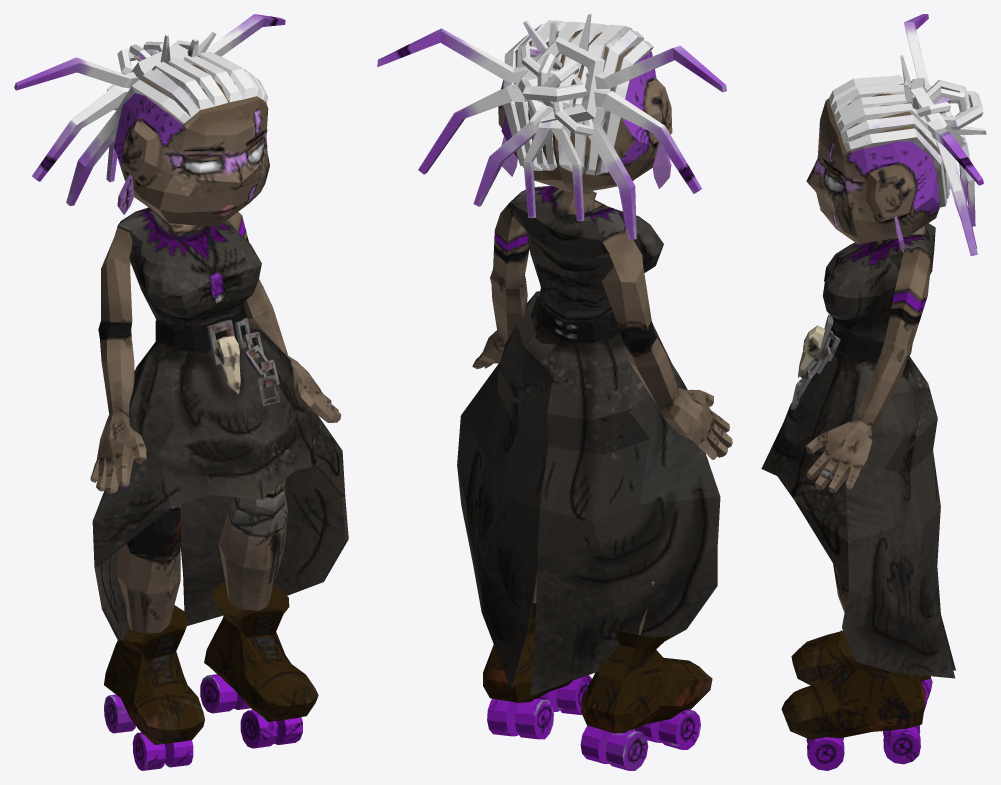
Rendered from bruja_000062.obj.
3 views of the same model, side by side, from view 1: azimuth 30°, elevation 25°; view 2: azimuth 150°, elevation 25°; view 3: azimuth 270°, elevation 25° (orthographic). The views are drawn at different scales.
Visible parts, largest first — view 1: Bruja_Plane.001; view 2: Bruja_Plane.001; view 3: Bruja_Plane.001.
Boxes of the visible parts, <box> form: Bruja_Plane.001: <box>14,14,348,770</box>; Bruja_Plane.001: <box>377,14,732,770</box>; Bruja_Plane.001: <box>761,14,986,770</box>.
Size of the model in its own units: 7.35 by 16.46 by 4.98.
